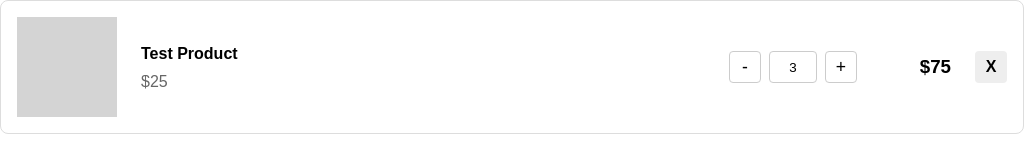
Test: CartProduct › changes quantity below 1 to 1
Replace the text in the number field with "0" at (793, 67), box [769,51,817,83]
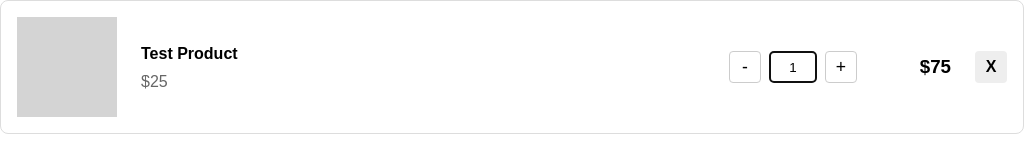
Now the number field holds "1", box [769,51,817,83]
